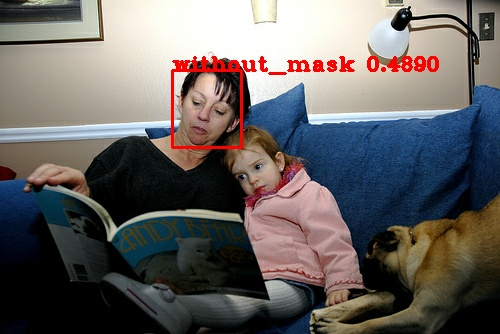without_mask: (175, 62, 249, 152), (223, 132, 296, 202)
